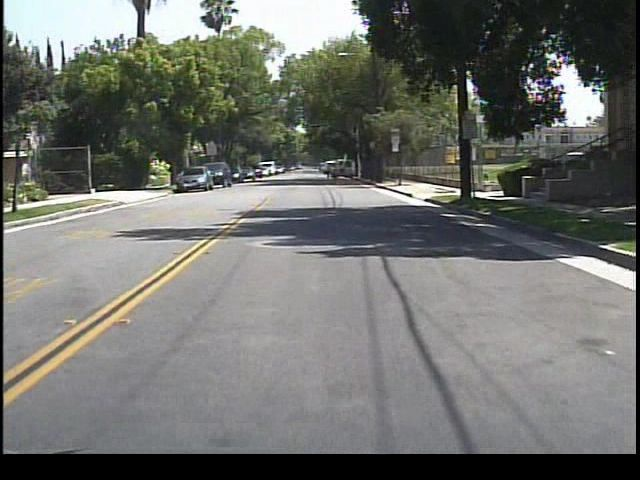person: (320, 159, 335, 185)
